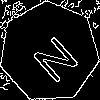N: (24, 27, 82, 85)
